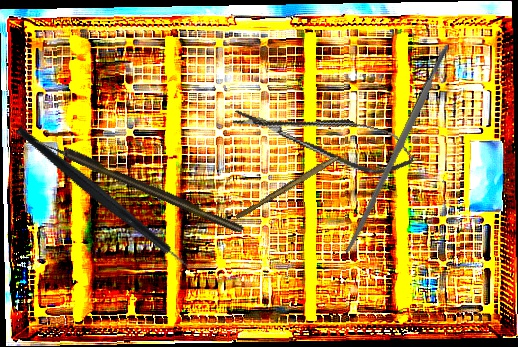Chopper: (13, 80, 210, 317)
Hook Surgical: (32, 133, 245, 236)
Micro Scissor: (229, 89, 419, 184)
Scalpel Handle: (342, 42, 454, 256), (234, 152, 340, 222)
